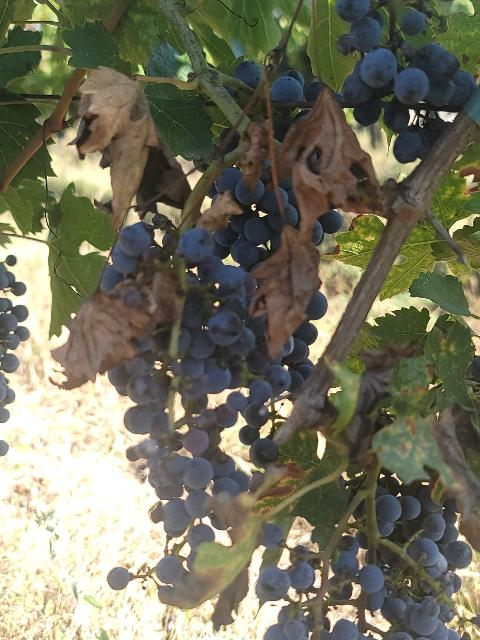grapes: (109, 224, 255, 555), (336, 0, 475, 162), (240, 291, 328, 446), (375, 476, 471, 596), (215, 168, 300, 291), (365, 545, 458, 640), (325, 530, 369, 605)
